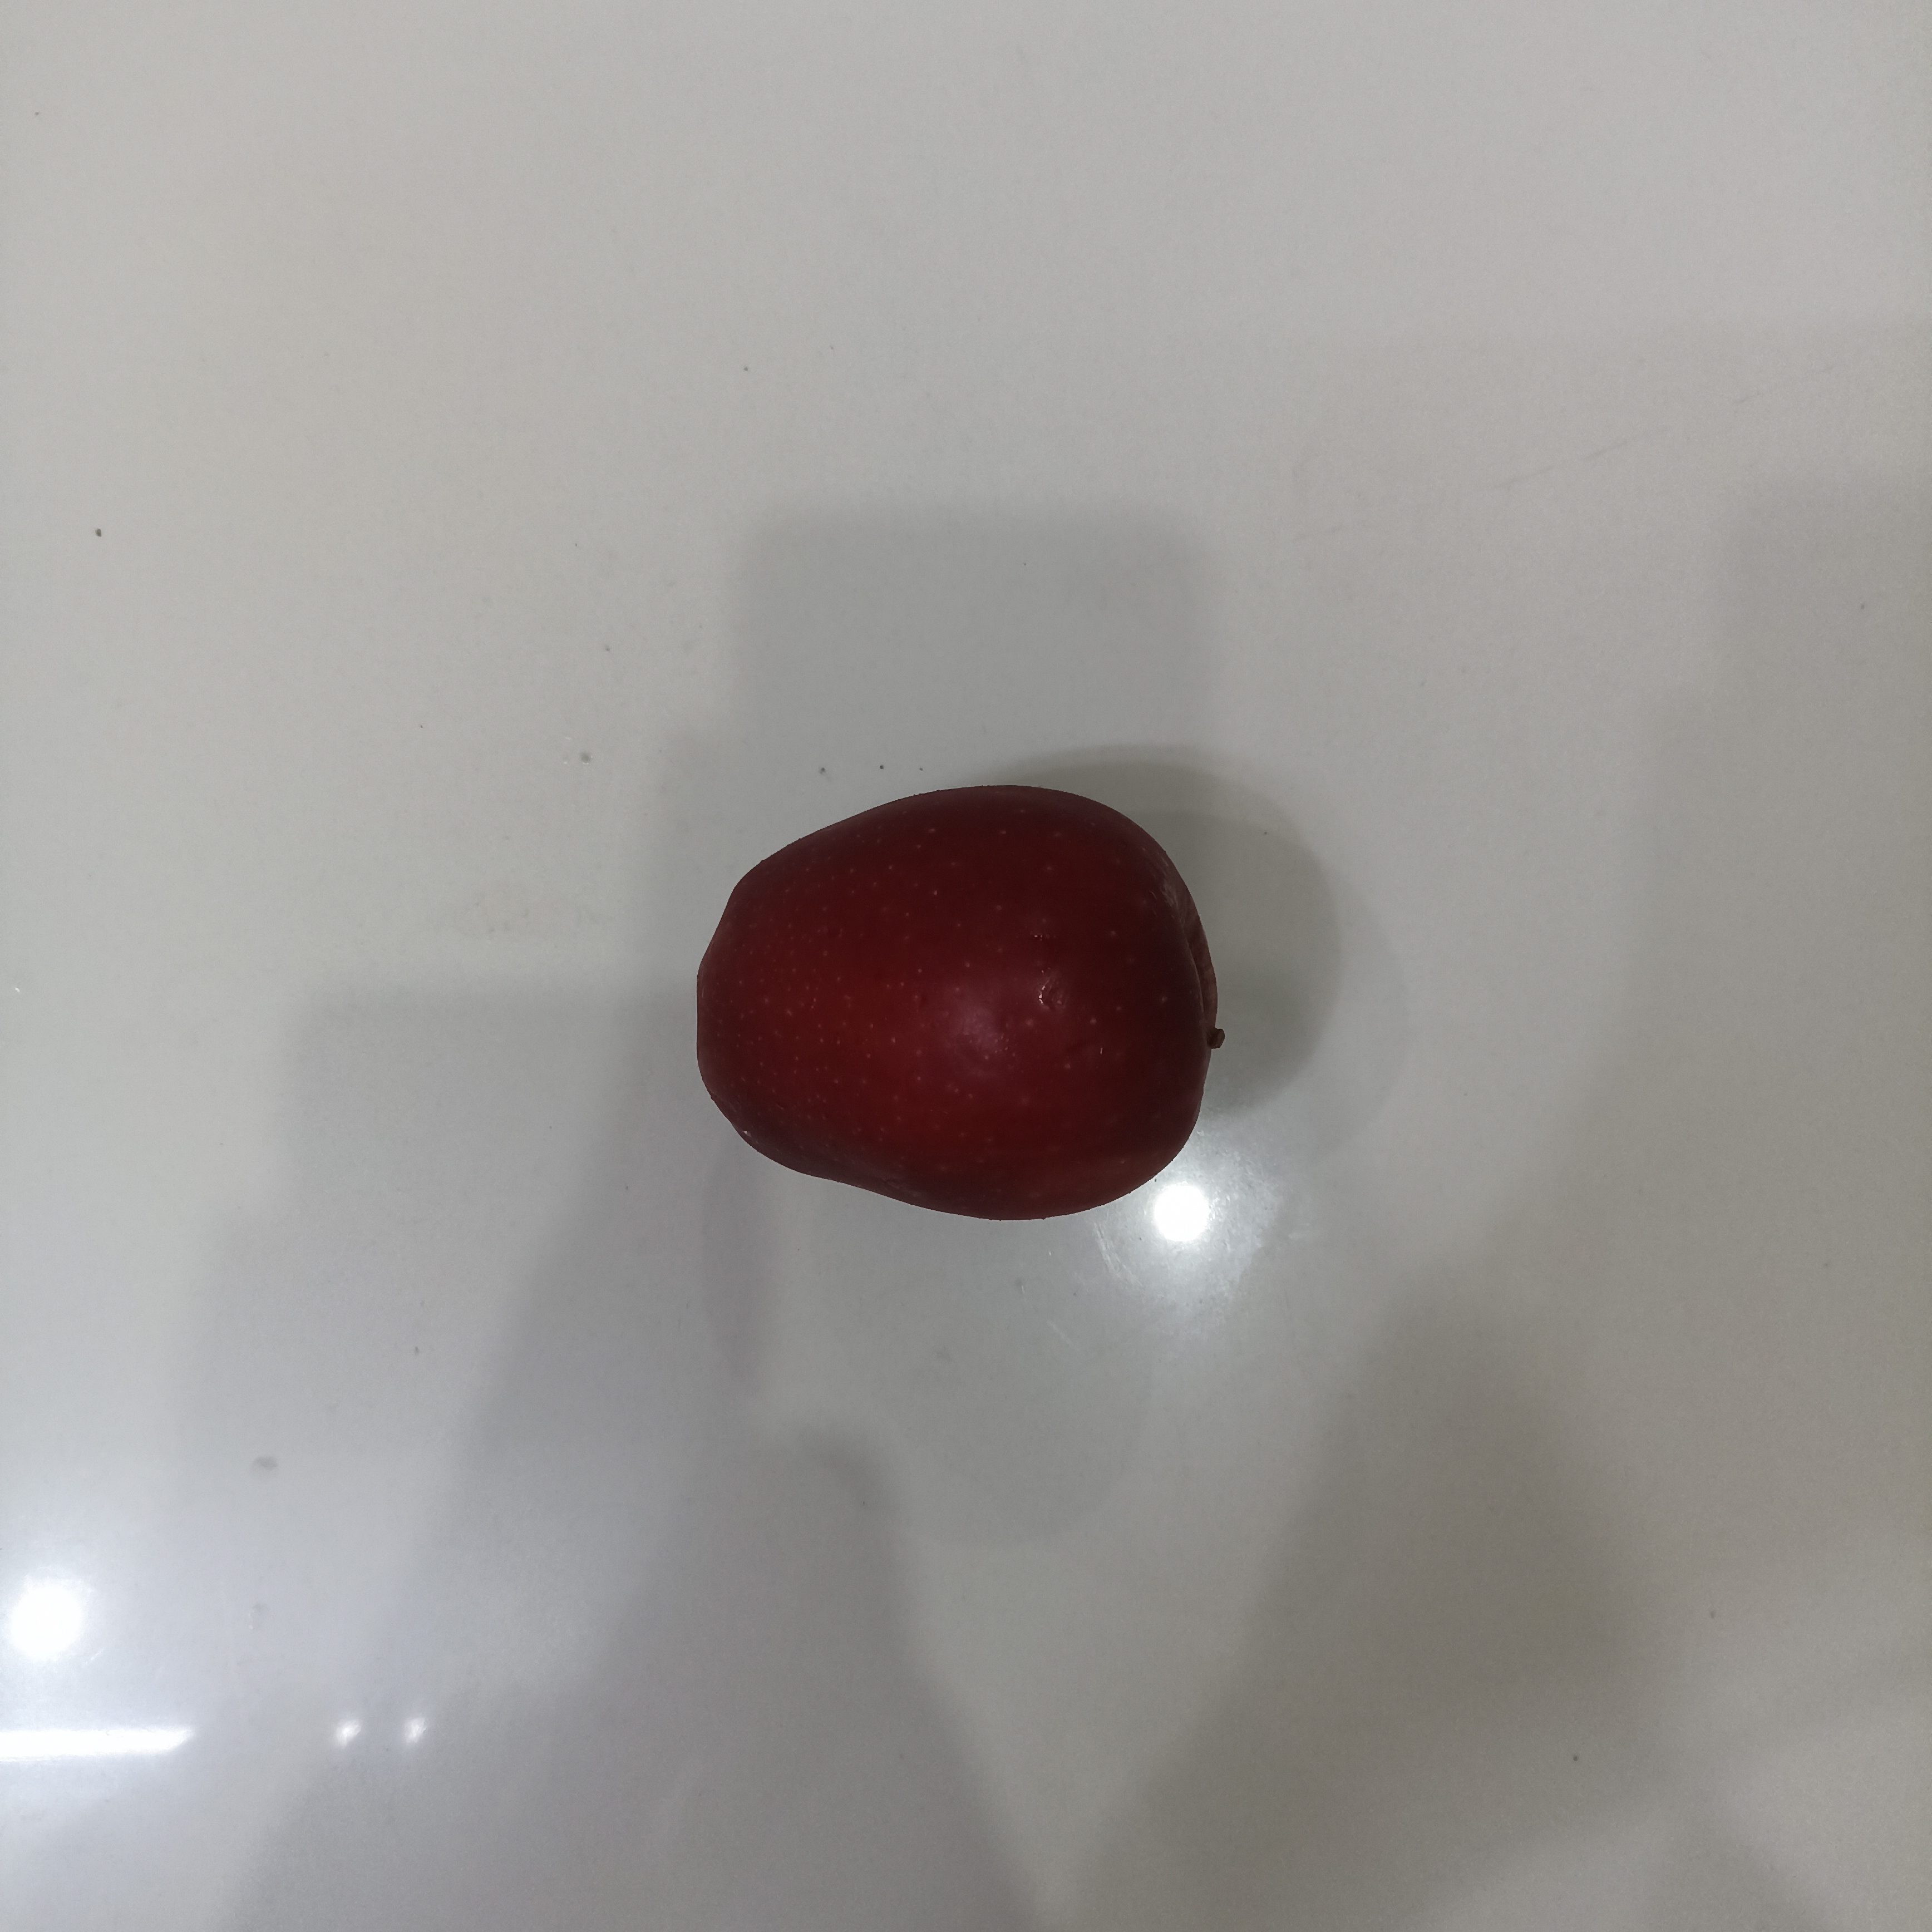Tao do: (692, 784, 1230, 1224)
